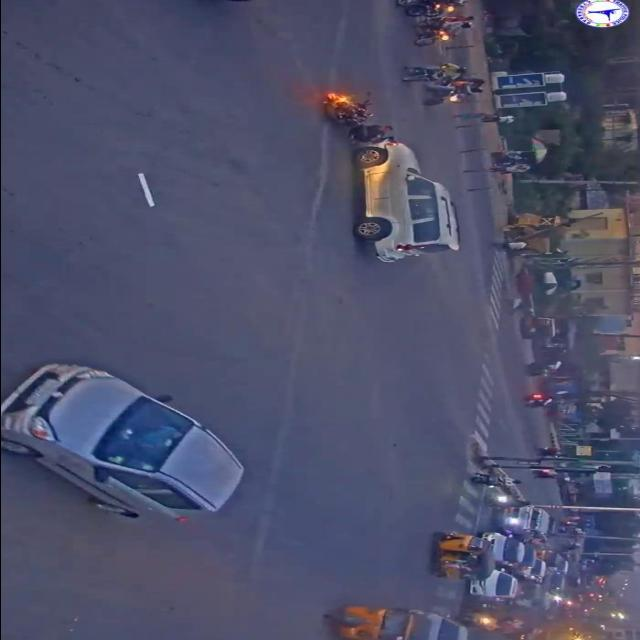accident: (312, 87, 464, 267)
non_accident: (420, 474, 548, 630), (396, 59, 491, 109), (387, 0, 483, 49)
